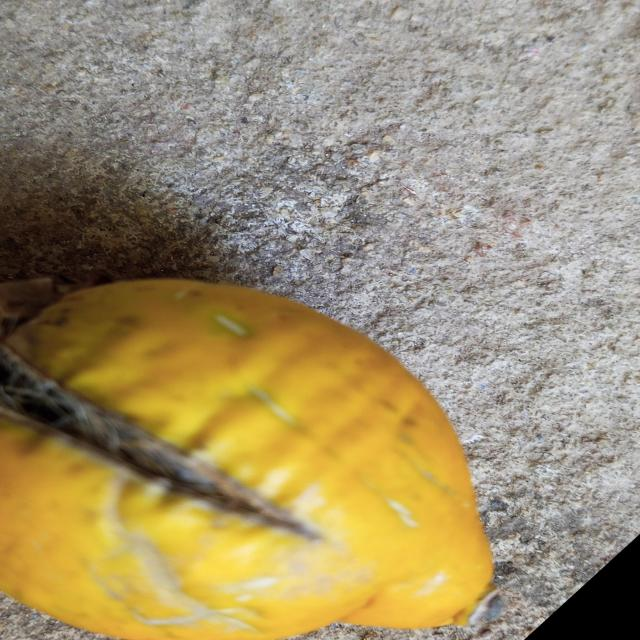damaged: (0, 279, 495, 640)
